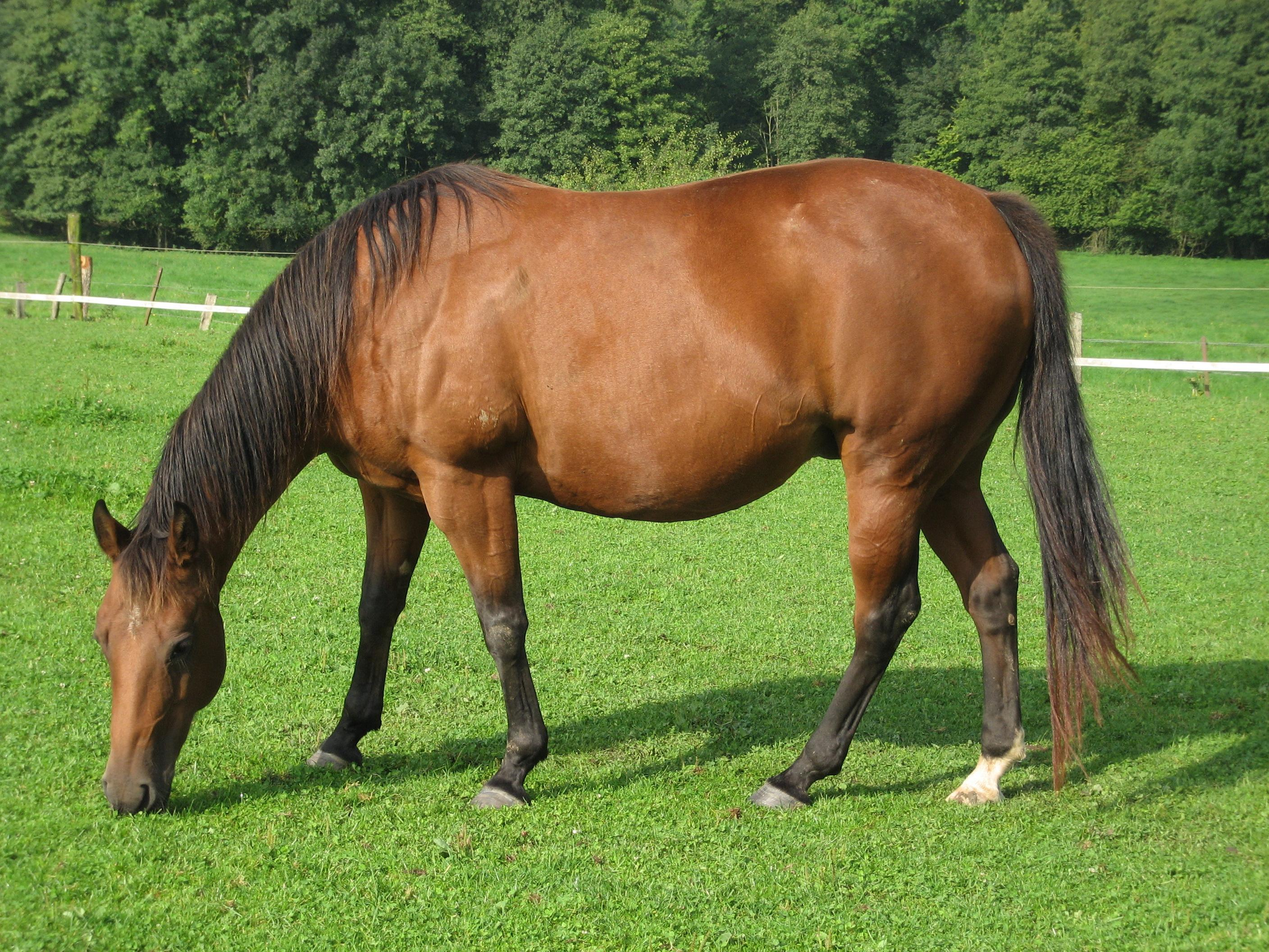horse: (72, 146, 1152, 831)
